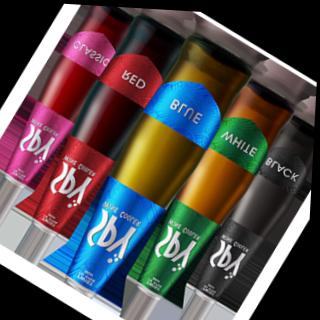glass: (125, 79, 315, 319), (8, 6, 181, 238), (188, 145, 311, 314)
